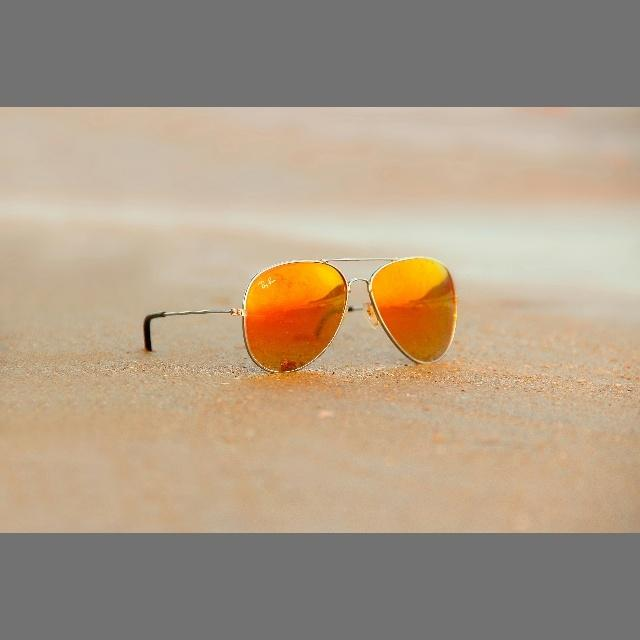Sunglasses: (234, 242, 466, 372)
